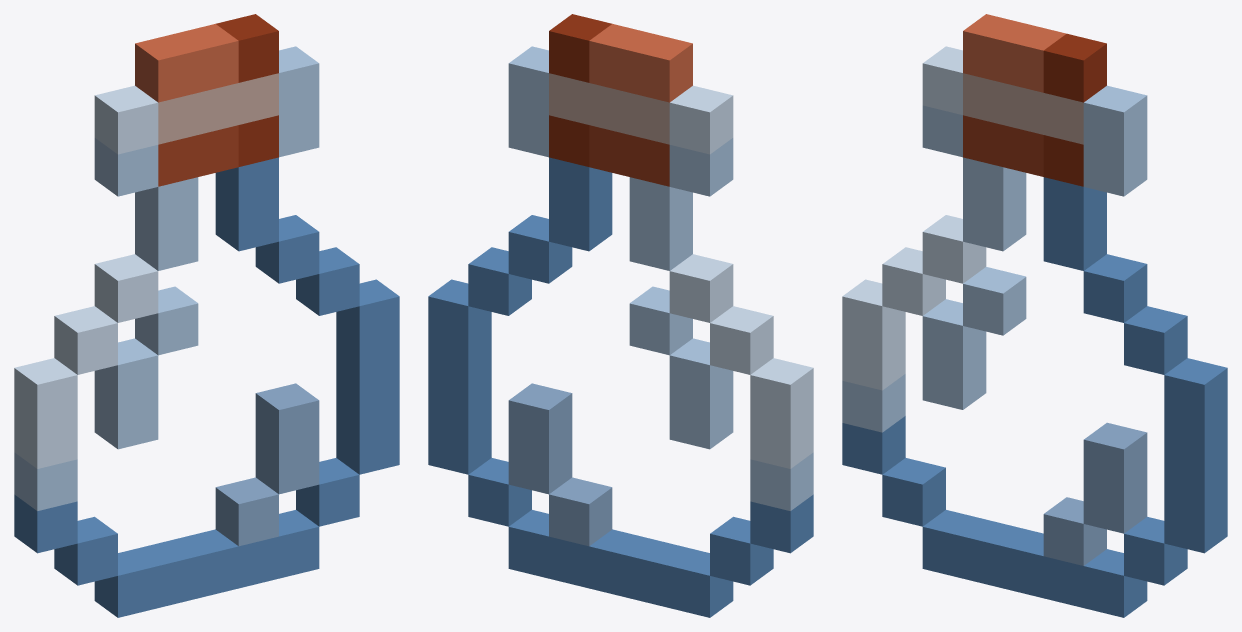
Rendered from Empty Bottle.glb.
3 renders of one model, left to right at view 1: azimuth 30°, elevation 25°; view 2: azimuth 150°, elevation 25°; view 3: azimuth 330°, elevation 25°, orthographic.
Visible parts, largest first — view 1: Untitled; view 2: Untitled; view 3: Untitled.
Part boxes in pixels (box(x1,y1,x2,y2)): Untitled: box(14, 14, 399, 617); Untitled: box(428, 14, 813, 617); Untitled: box(842, 14, 1227, 617).
Bounding box in the file's own units: 7.2 × 10.4 × 0.8.
1 material, 1 textured.
